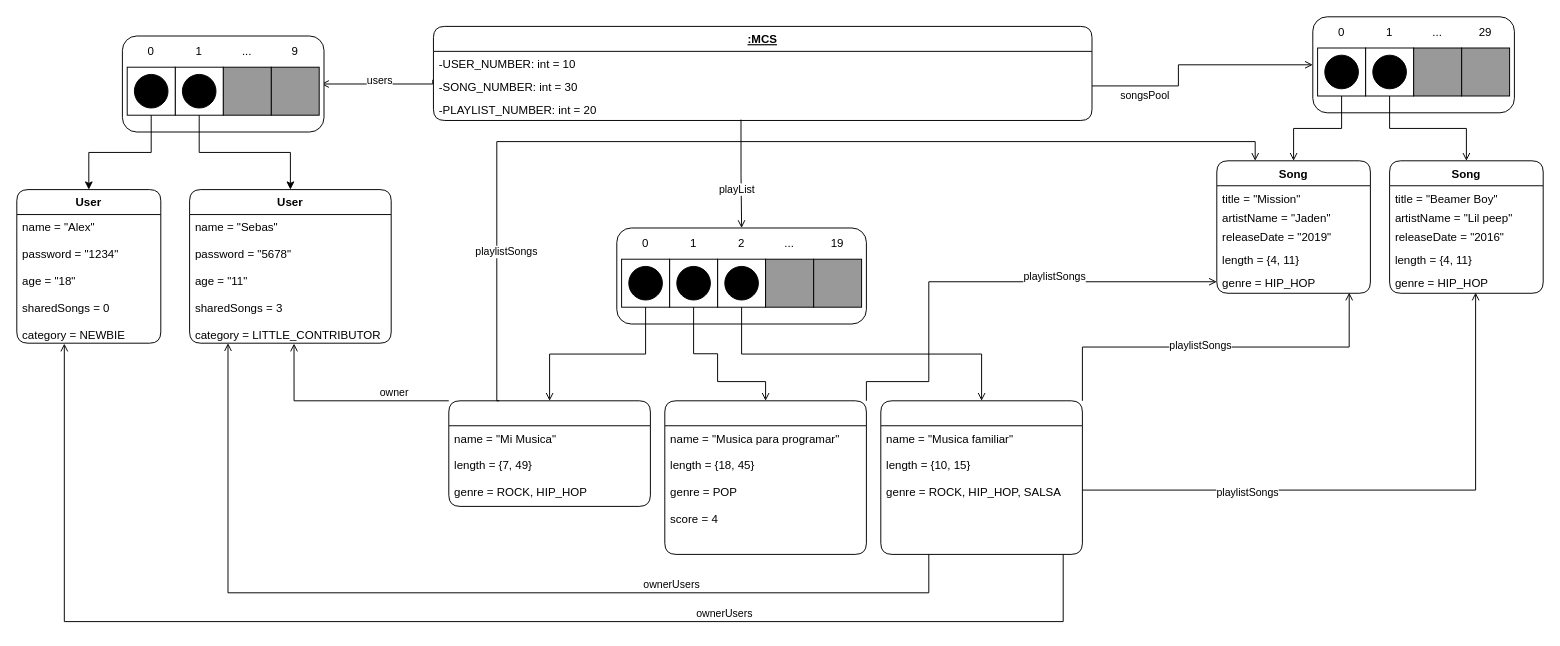
Some shapes in this 1560 by 646 pixel diagram are drawn without their labels. The shapes that lost their labels are listed below. From the top down, each one's box as (x1, y1, x2, y2) in pixels, then its label:
(448, 400, 650, 506): PrivatePlaylist
(664, 400, 866, 554): PublicPlaylist
(880, 400, 1082, 554): RestrictedPlaylist
